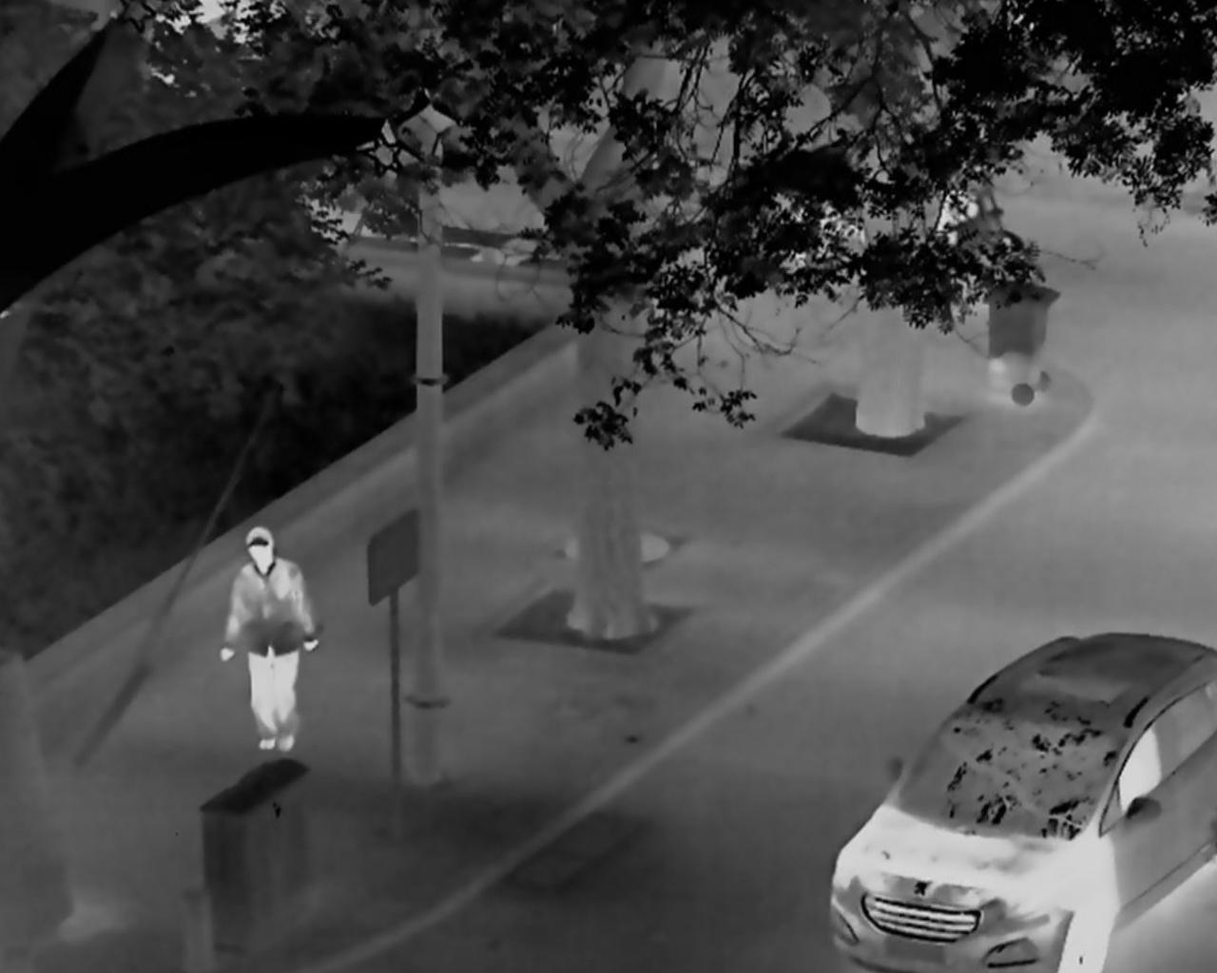person: (218, 524, 320, 754)
